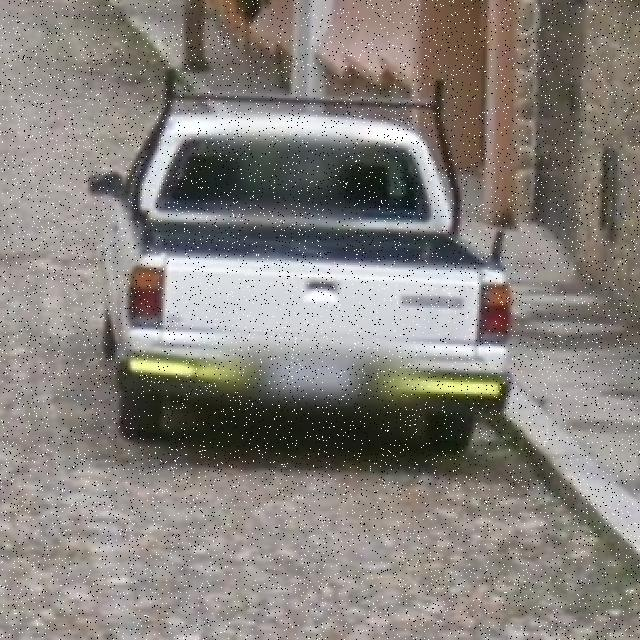cars: (110, 82, 514, 440)
